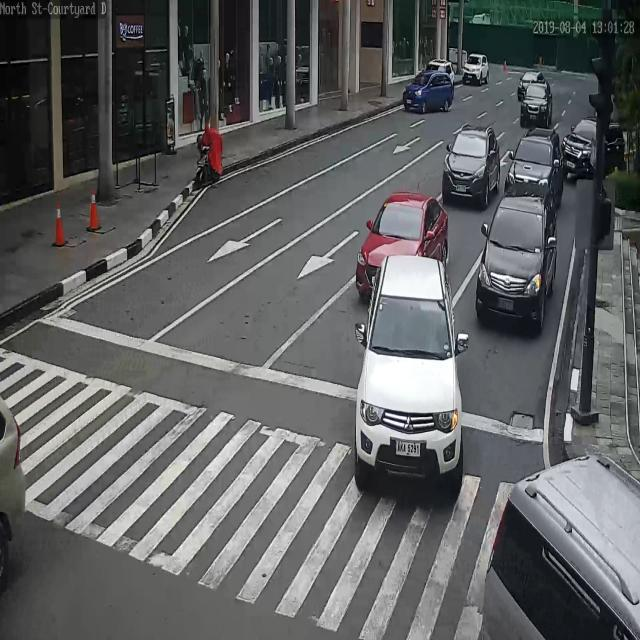car: (480, 451, 640, 640), (354, 254, 464, 493), (475, 180, 559, 333), (355, 190, 450, 305), (0, 391, 28, 589), (504, 127, 562, 216), (441, 126, 501, 209), (562, 116, 626, 179), (404, 69, 455, 113), (519, 80, 553, 129), (425, 58, 456, 90), (518, 69, 546, 102), (462, 52, 489, 85)
jeepney: (196, 104, 224, 188)
